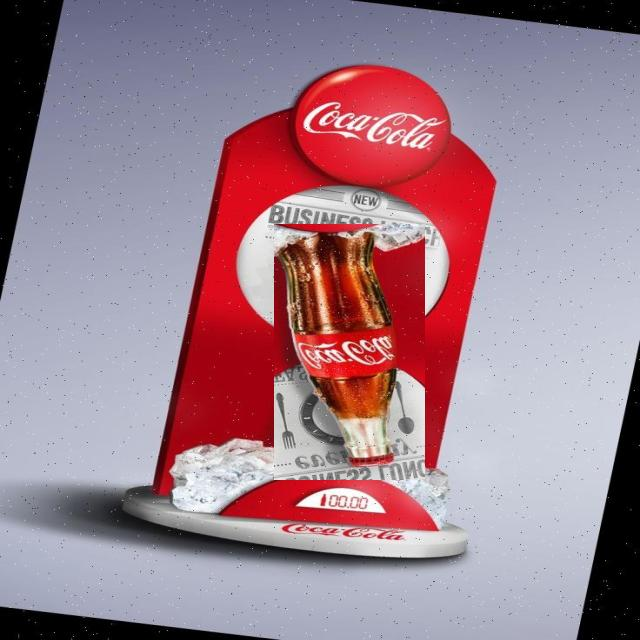coca-cola: (274, 224, 425, 480)
